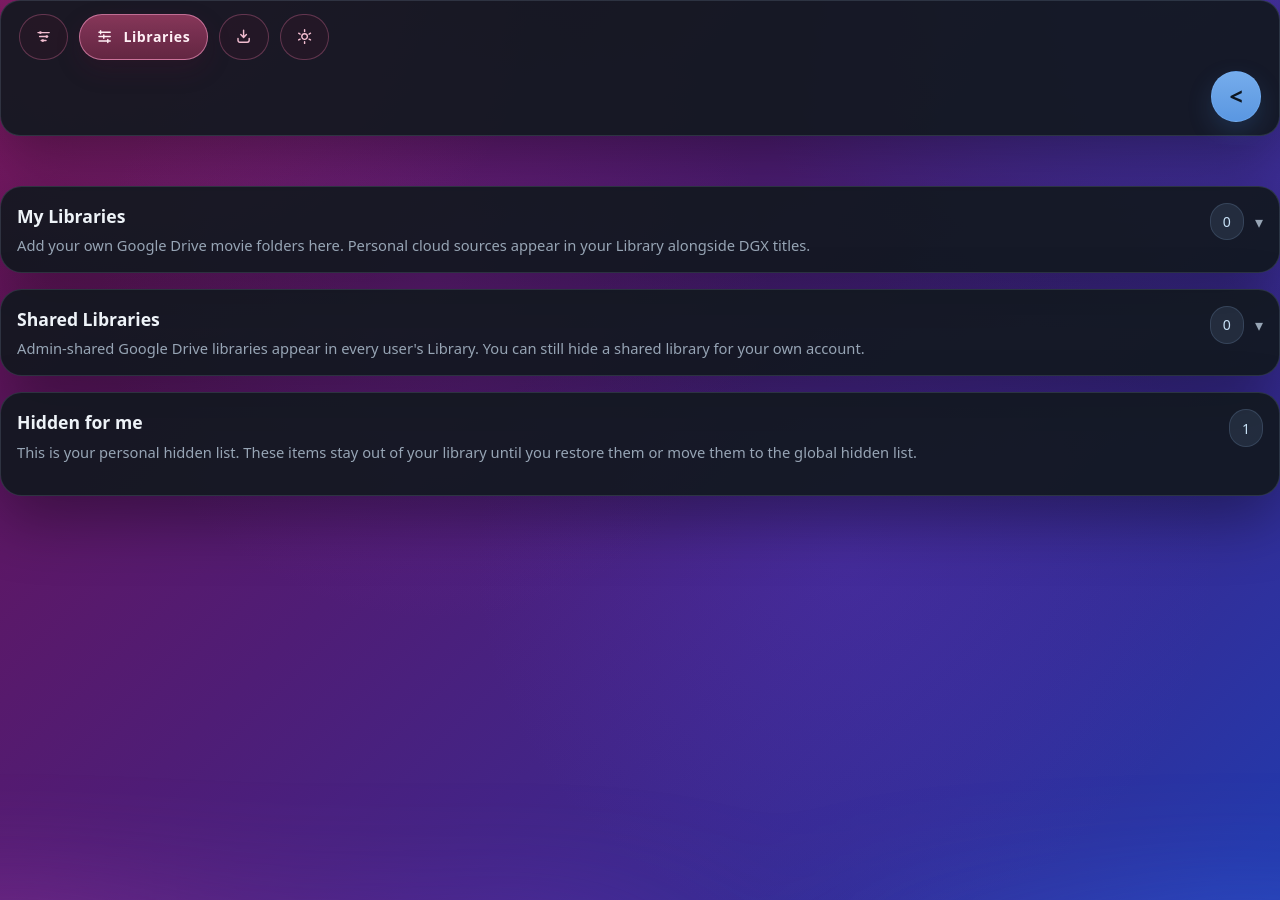
Test: SettingsPage section navigation and consolidation › connectivity recovery retries only the failed Libraries resource
Click the text "Hidden for me".
click(80, 422)  # box [17,410,143,434]
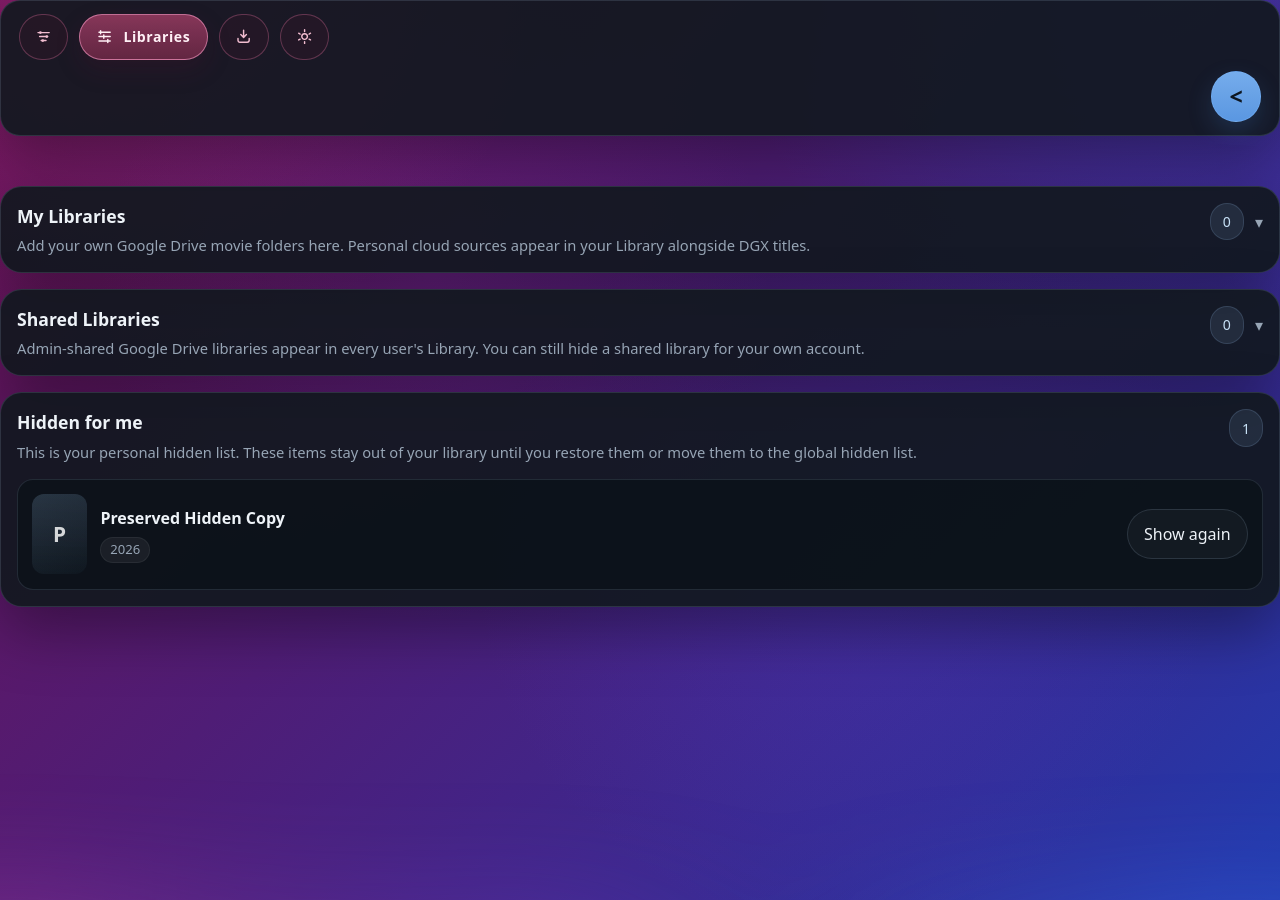
Result: the text "Preserved Hidden Copy" is shown at [100,507,285,529]
